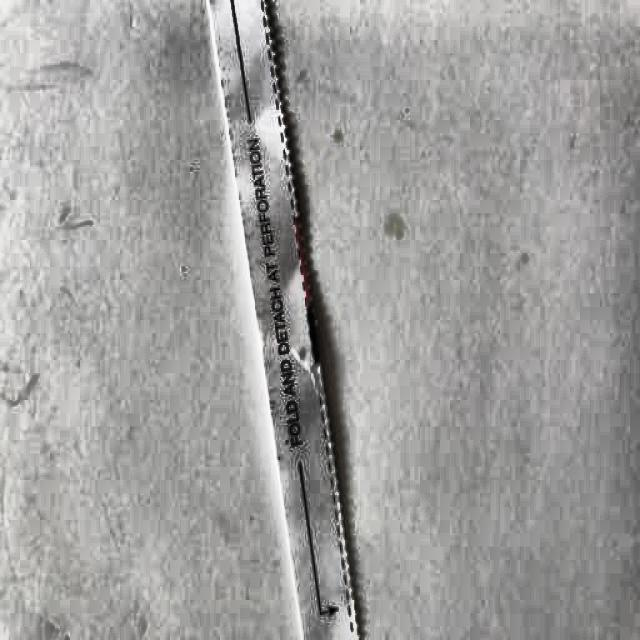paper: (200, 0, 369, 640)
